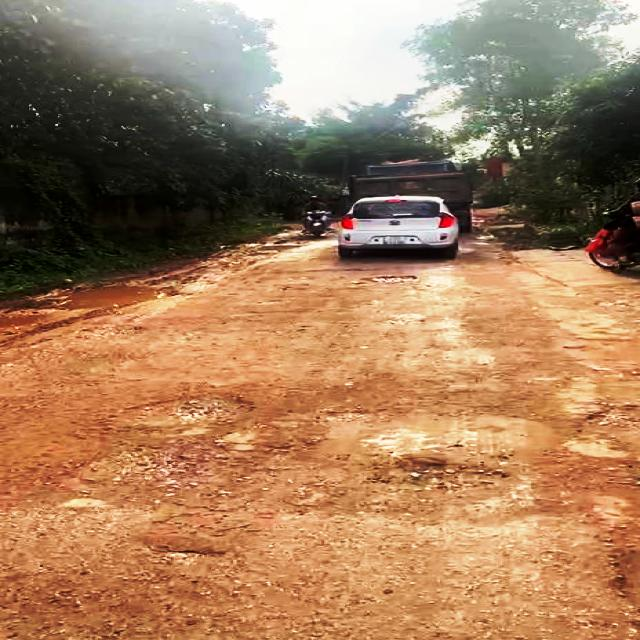pothole: (556, 336, 640, 428), (585, 491, 640, 604), (349, 456, 510, 493), (95, 446, 199, 492), (121, 390, 252, 426), (51, 283, 178, 314), (314, 408, 380, 426), (360, 273, 423, 285)
